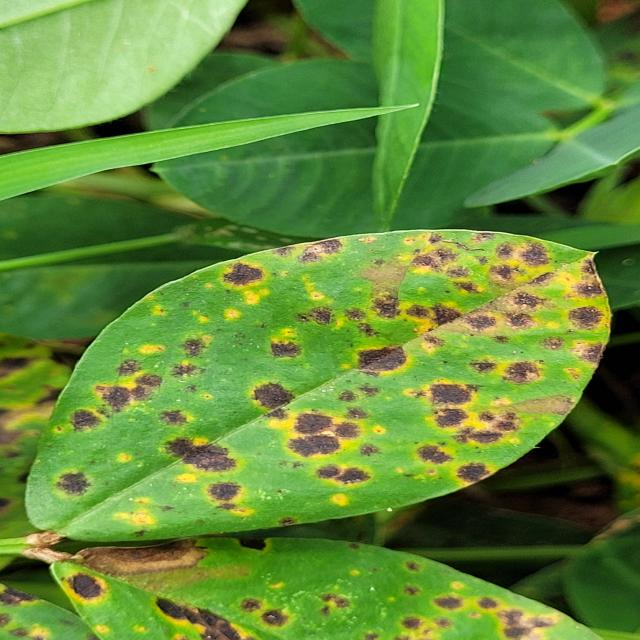Ground nut_tikka leaf spot: (31, 226, 616, 539)
